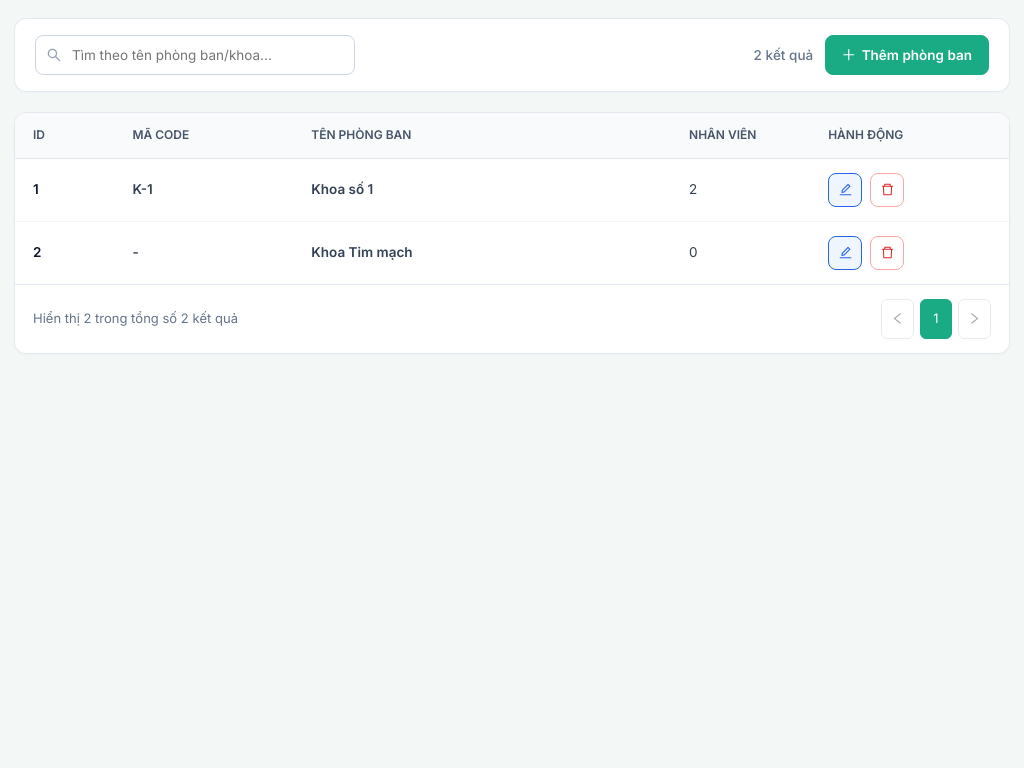
Test case: ReferenceDepartmentsListPage - tạo phòng ban › đóng biểu mẫu bằng nút X, nút Huỷ và click ra nền
This screenshot has width=1024, height=768.
Expected: the text "Khoa số 1" is shown, [311, 181, 373, 197]
Click the button "Thêm phòng ban".
click(907, 55)  # box [825, 35, 989, 75]
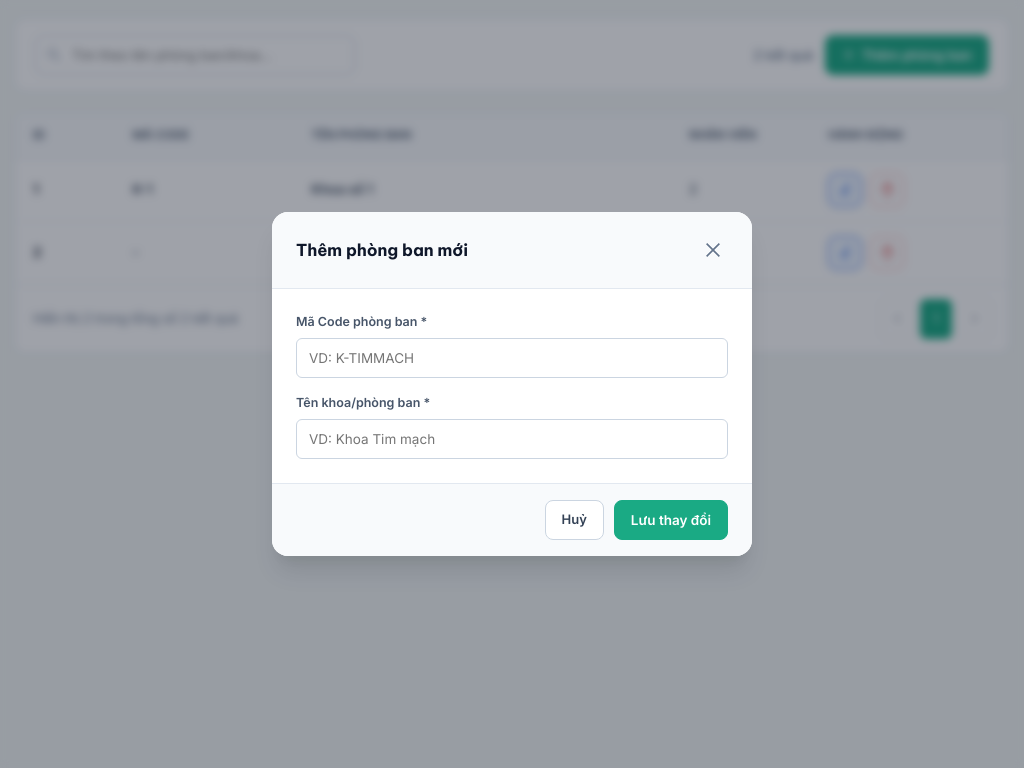
Click the button with class "rdl-modal-close".
click(713, 250)  # box [698, 230, 728, 270]
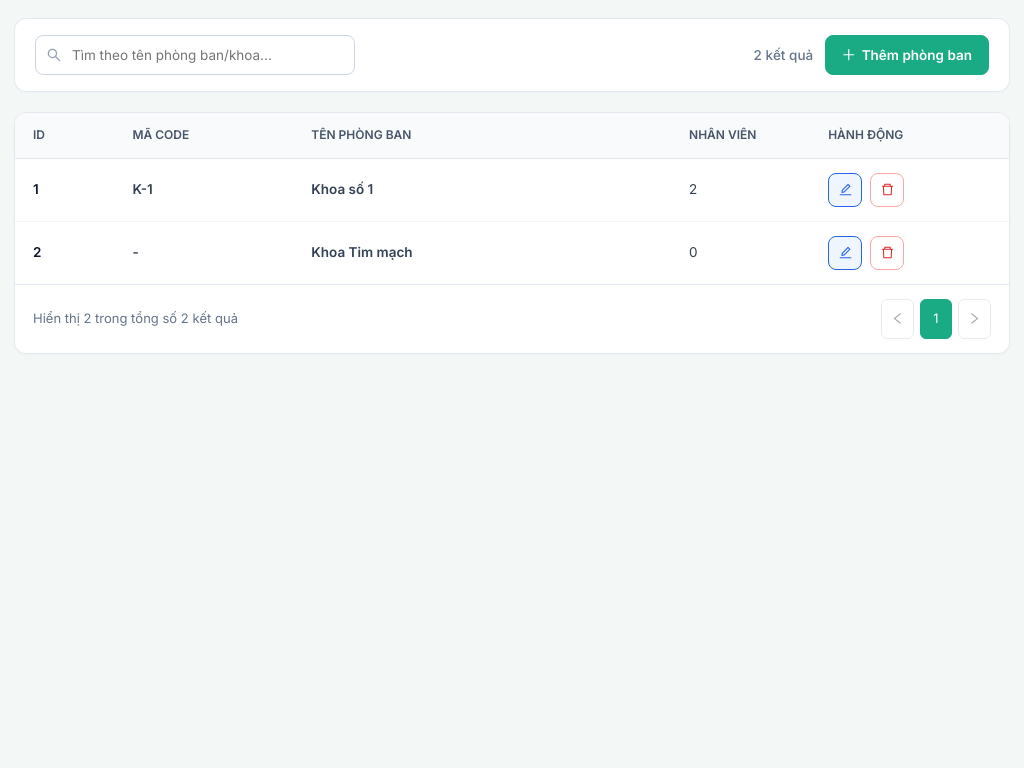
Result: the heading "Thêm phòng ban mới" is gone
Click the button "Thêm phòng ban".
click(907, 55)  # box [825, 35, 989, 75]
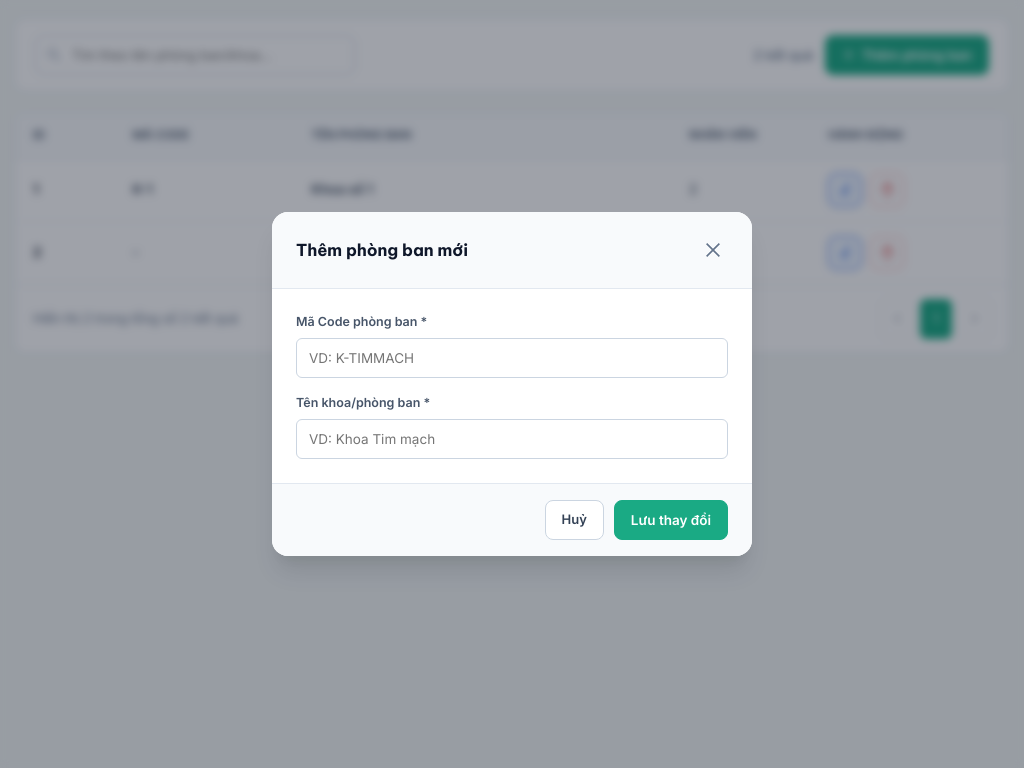
Click the button "Huỷ".
click(574, 520)  # box [544, 500, 604, 540]
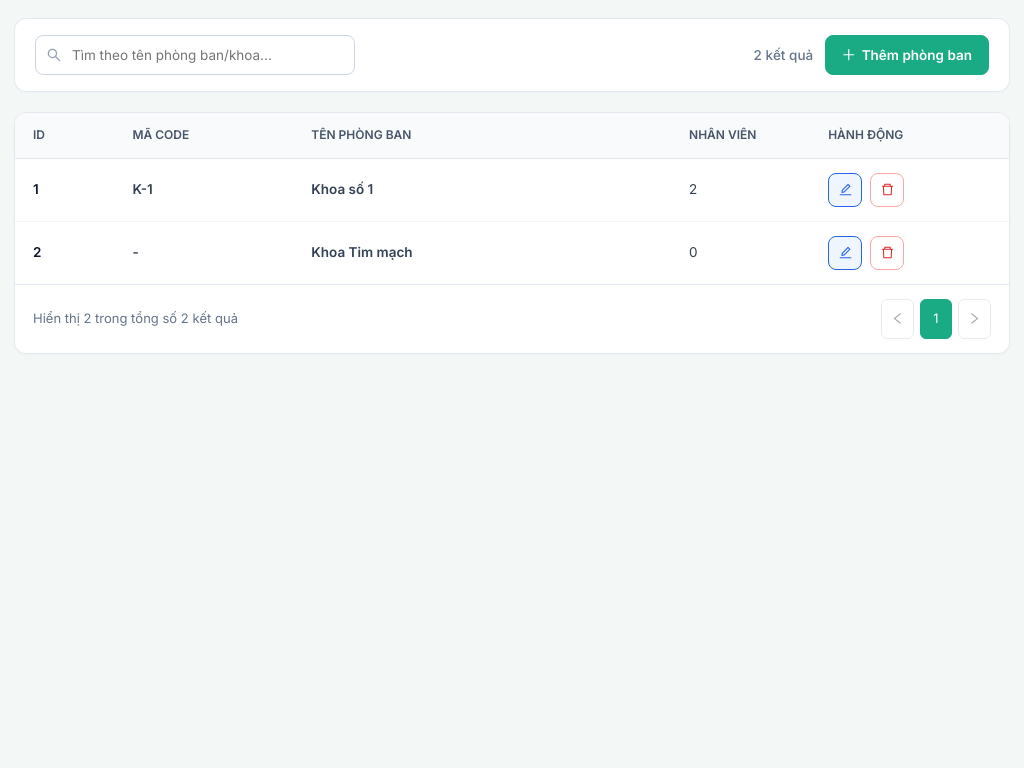
Result: the heading "Thêm phòng ban mới" is gone
Click the button "Thêm phòng ban".
click(907, 55)  # box [825, 35, 989, 75]
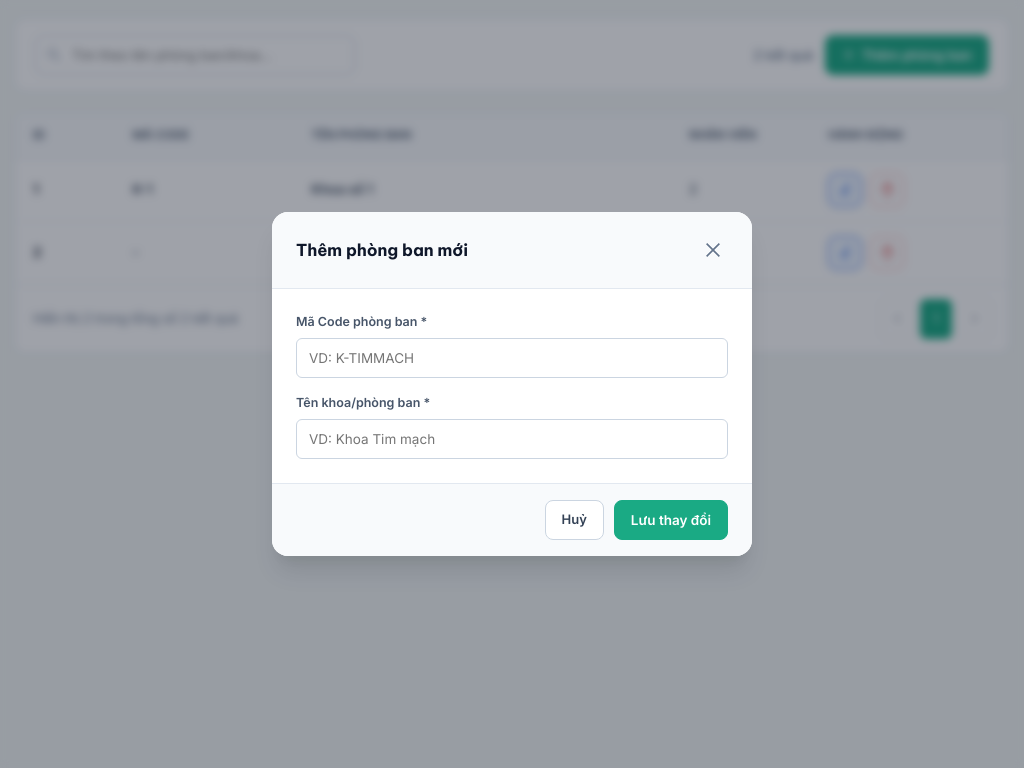
Click the element with class "rdl-modal-overlay".
click(61, 384)  # box [0, 0, 1023, 767]
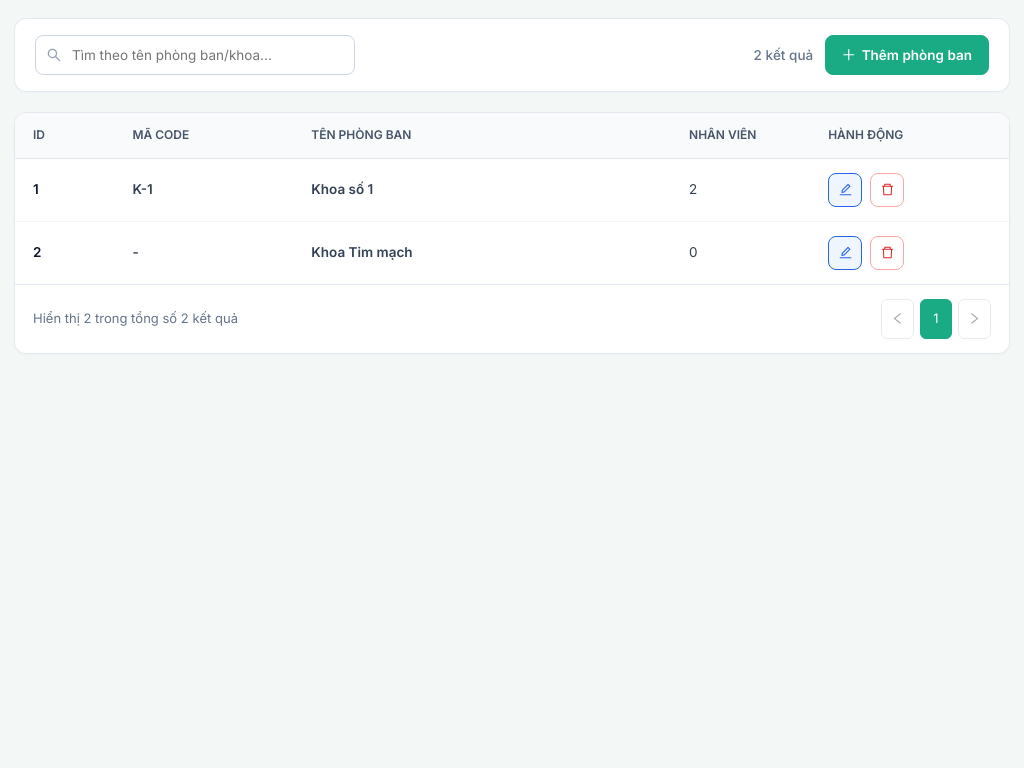
Result: the heading "Thêm phòng ban mới" is gone
